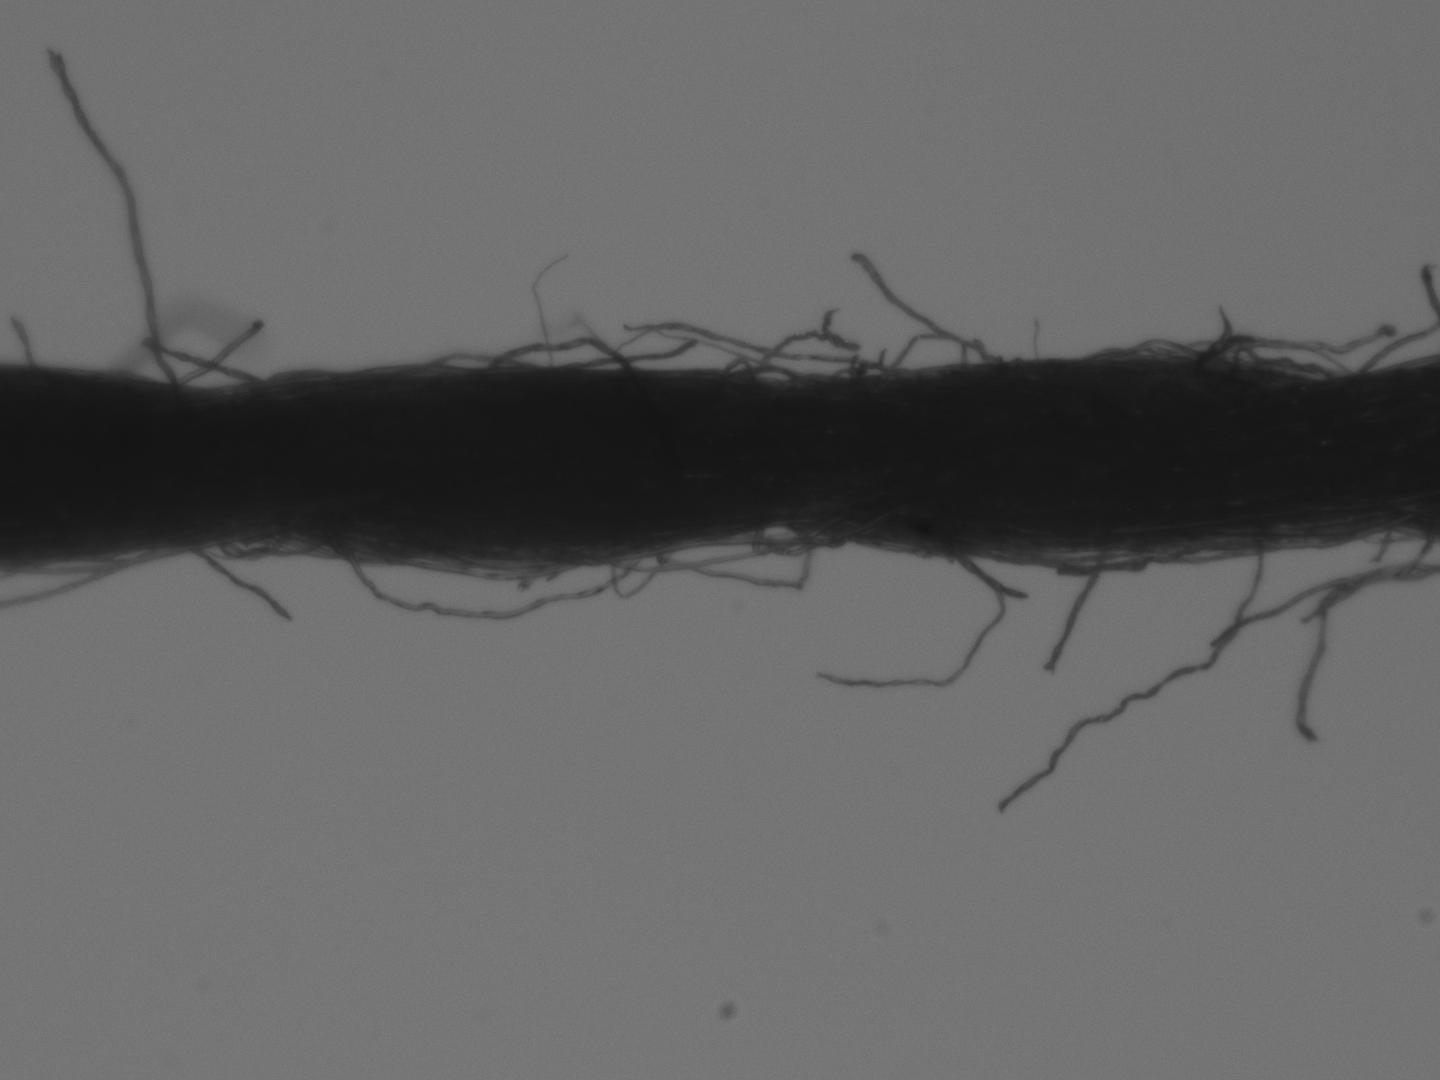loop_fiber: (323, 531, 632, 623), (659, 523, 813, 593), (757, 329, 870, 381), (1081, 336, 1259, 369), (486, 336, 633, 376), (745, 516, 867, 559), (892, 331, 1000, 378), (1233, 339, 1358, 377), (212, 526, 330, 559), (604, 542, 668, 600), (206, 529, 283, 560), (835, 353, 914, 379), (719, 362, 803, 378), (720, 354, 761, 381)
protruding_fiber: (999, 543, 1269, 812), (50, 44, 172, 383), (819, 549, 1008, 692), (845, 248, 1014, 366), (188, 543, 295, 624), (1045, 552, 1108, 680), (164, 318, 265, 391)
